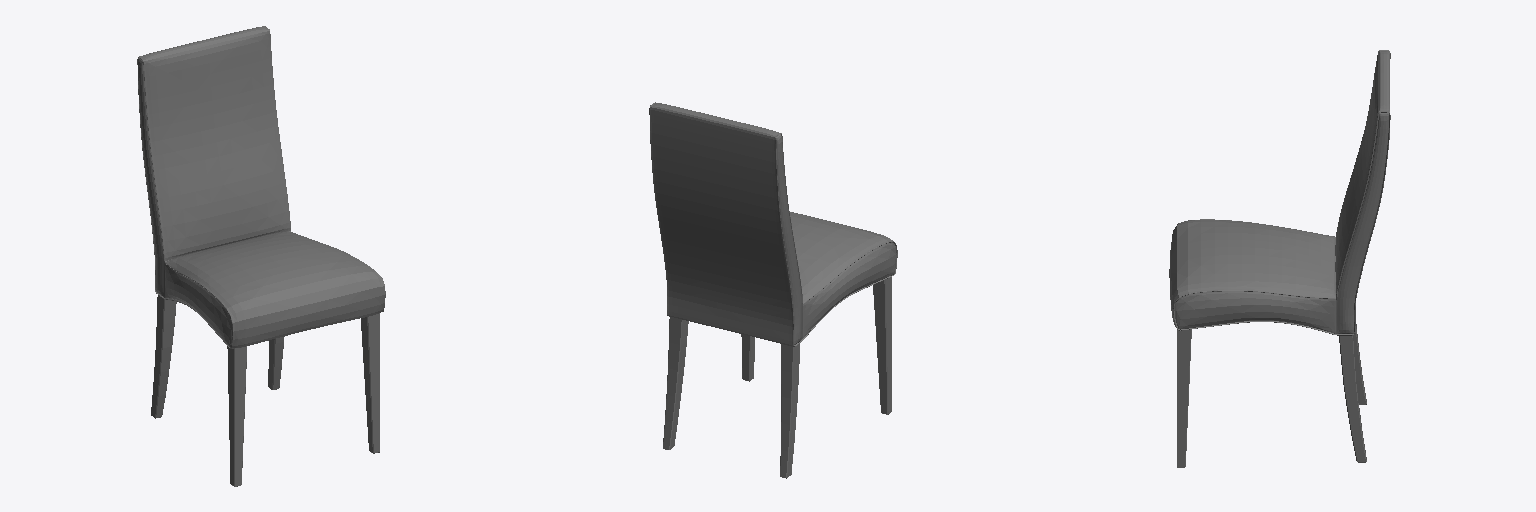
3 views of the same model, side by side, from view 1: azimuth 30°, elevation 25°; view 2: azimuth 150°, elevation 25°; view 3: azimuth 270°, elevation 25° (orthographic).
Parts seen in each view (by area): view 1: cattelan_italia_cindy; view 2: cattelan_italia_cindy; view 3: cattelan_italia_cindy.
Part boxes in pixels (x1,y1,x2,y2): cattelan_italia_cindy: (137, 26, 385, 486); cattelan_italia_cindy: (649, 102, 897, 478); cattelan_italia_cindy: (1169, 50, 1390, 467).
Bounding box in the file's own units: 44 × 95.66 × 54.28.